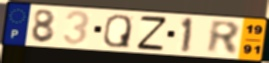1: (178, 16, 194, 54)
3: (62, 9, 94, 47)
8: (31, 8, 57, 44)
Q: (101, 13, 133, 49)
R: (206, 19, 242, 57)
Z: (135, 15, 169, 51)
